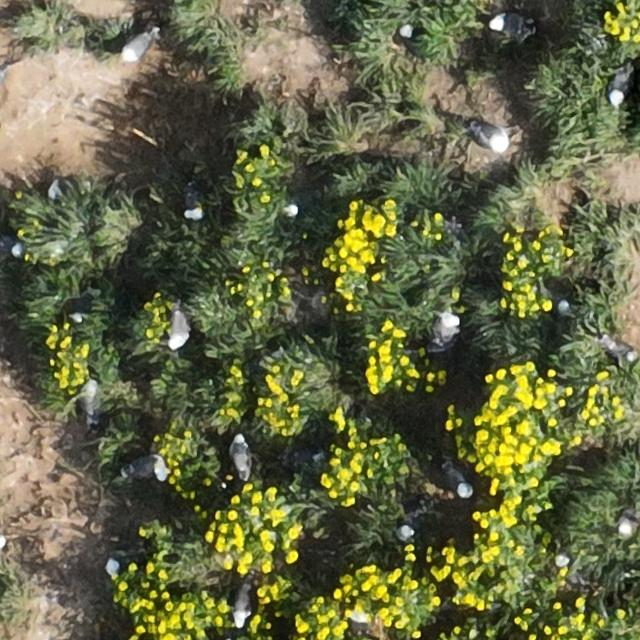umineko: (50, 175, 100, 200), (472, 125, 508, 150), (123, 458, 162, 480), (400, 506, 427, 537), (434, 313, 460, 345), (84, 380, 101, 428), (490, 14, 528, 35), (122, 34, 150, 62), (168, 310, 188, 348), (233, 584, 252, 624), (446, 466, 470, 497), (609, 69, 629, 105), (603, 336, 634, 359), (230, 438, 248, 475), (185, 187, 202, 219), (618, 507, 638, 533), (350, 610, 370, 636), (1, 233, 23, 256), (107, 556, 132, 574), (550, 291, 572, 310), (400, 22, 419, 40), (283, 202, 303, 219), (552, 555, 572, 569)
